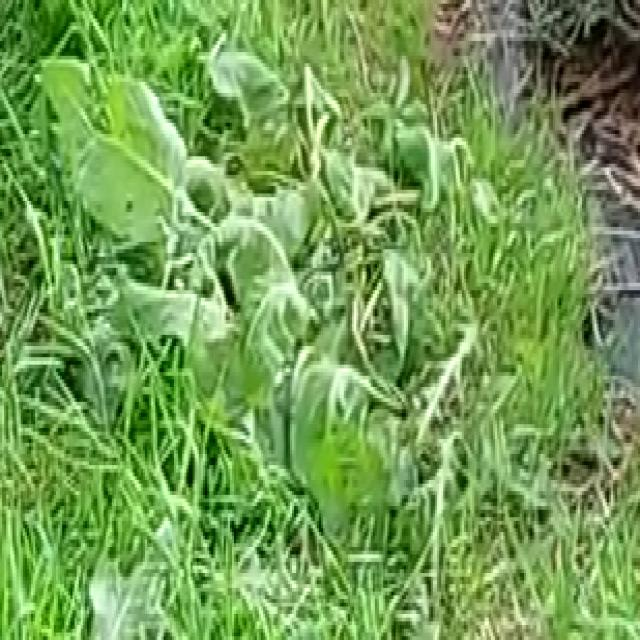organic waste: (209, 45, 423, 532), (47, 15, 310, 379), (44, 517, 215, 640)
